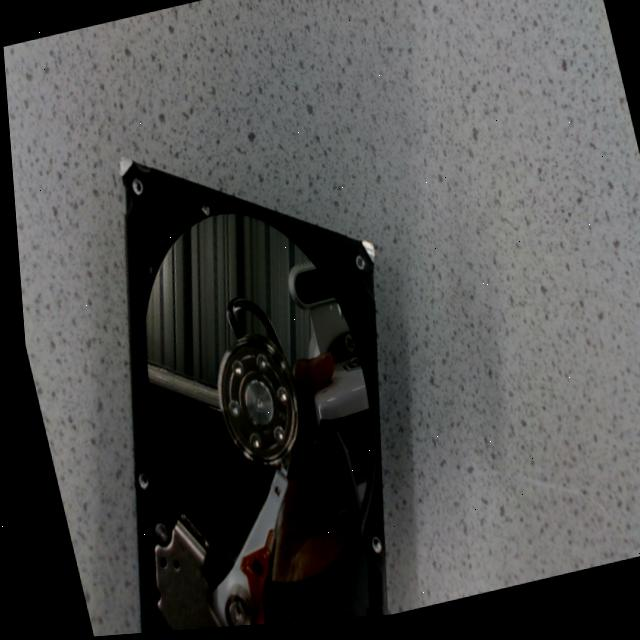actuator arm: (203, 473, 279, 630)
actuator axis: (215, 598, 241, 629)
case: (119, 164, 378, 635)
magnet: (147, 519, 212, 633)
platter: (140, 219, 363, 586)
platter holder: (212, 339, 291, 469)
screw: (222, 403, 233, 420), (250, 360, 263, 374), (226, 365, 237, 380), (242, 437, 252, 451), (267, 430, 276, 444), (272, 392, 280, 405)
